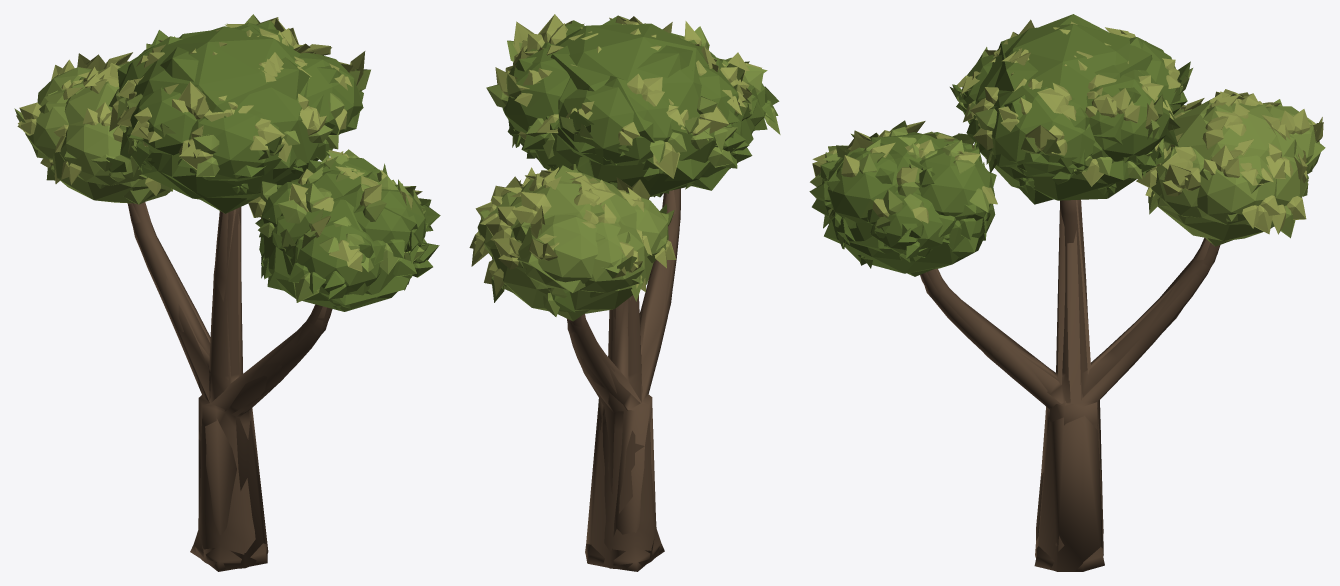
3 views of the same model, side by side, from view 1: azimuth 30°, elevation 25°; view 2: azimuth 150°, elevation 25°; view 3: azimuth 270°, elevation 25° (orthographic).
Visible parts, largest first — view 1: L0-crown, L0-trunk, L1-crown, L1-trunk; view 2: L0-crown, L1-trunk, L1-crown, L0-trunk; view 3: L0-crown, L1-trunk, L1-crown, L0-trunk.
Boxes of the visible parts, x1=… form: L0-crown: x1=14, y1=15, x2=439, y2=311; L0-trunk: x1=127, y1=202, x2=332, y2=571; L1-crown: x1=17, y1=14, x2=440, y2=305; L1-trunk: x1=128, y1=202, x2=327, y2=569; L0-crown: x1=469, y1=14, x2=780, y2=316; L1-trunk: x1=567, y1=190, x2=680, y2=569; L1-crown: x1=472, y1=15, x2=778, y2=321; L0-trunk: x1=567, y1=188, x2=680, y2=571; L0-crown: x1=809, y1=20, x2=1323, y2=273; L1-trunk: x1=923, y1=200, x2=1219, y2=571; L1-crown: x1=812, y1=14, x2=1325, y2=276; L0-trunk: x1=920, y1=199, x2=1220, y2=571.
Bounding box in the file's own units: 2.34 × 4.81 × 4.3.
